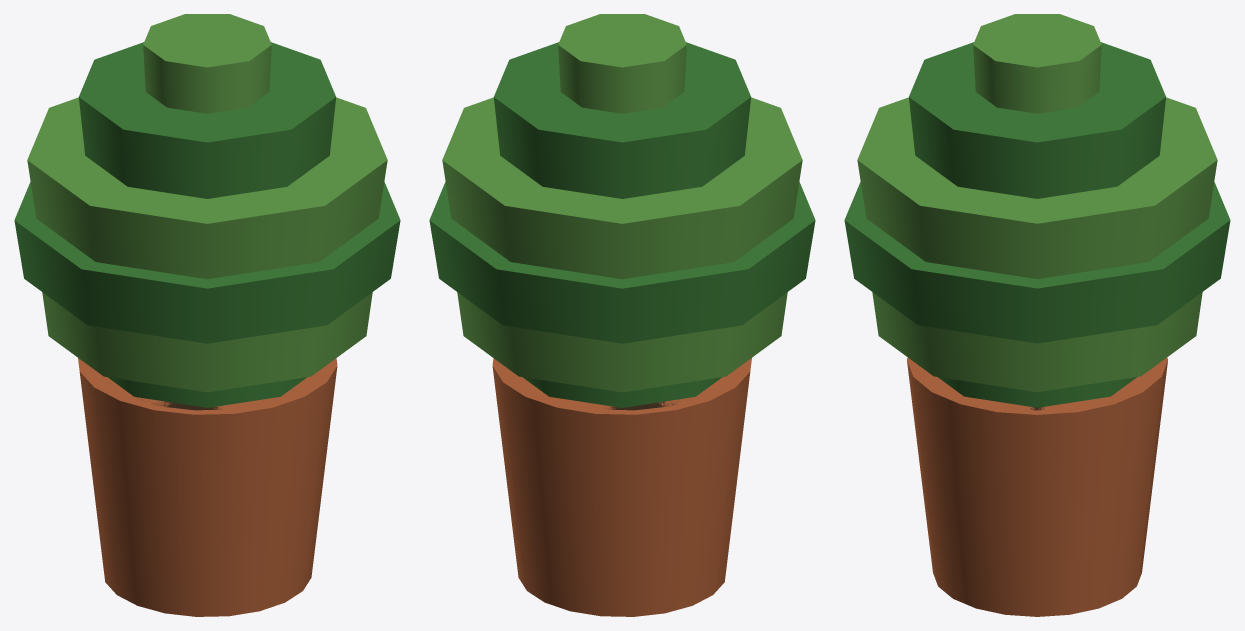
Rendered from planta.glb.
3 renders of one model, left to right at view 1: azimuth 30°, elevation 25°; view 2: azimuth 150°, elevation 25°; view 3: azimuth 270°, elevation 25°, orthographic.
Visible parts, largest first — view 1: follaje (×6), maceta; view 2: follaje (×6), maceta; view 3: follaje (×6), maceta.
Boxes of the visible parts, left/top/right/bottom form: follaje (×6): left=14, top=14, right=400, bottom=407; maceta: left=78, top=358, right=337, bottom=616; follaje (×6): left=429, top=14, right=815, bottom=407; maceta: left=492, top=358, right=751, bottom=616; follaje (×6): left=844, top=14, right=1230, bottom=407; maceta: left=907, top=357, right=1167, bottom=616.
Size of the model in its own units: 0.291 by 0.45 by 0.2954.
